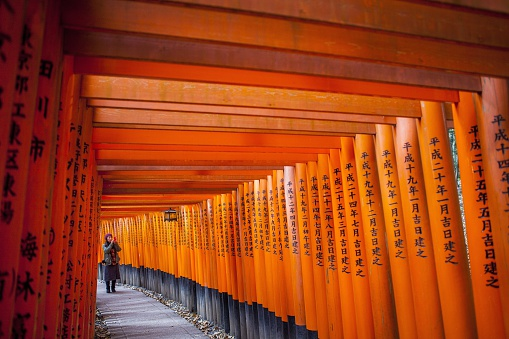em pe: (103, 243, 121, 290)
